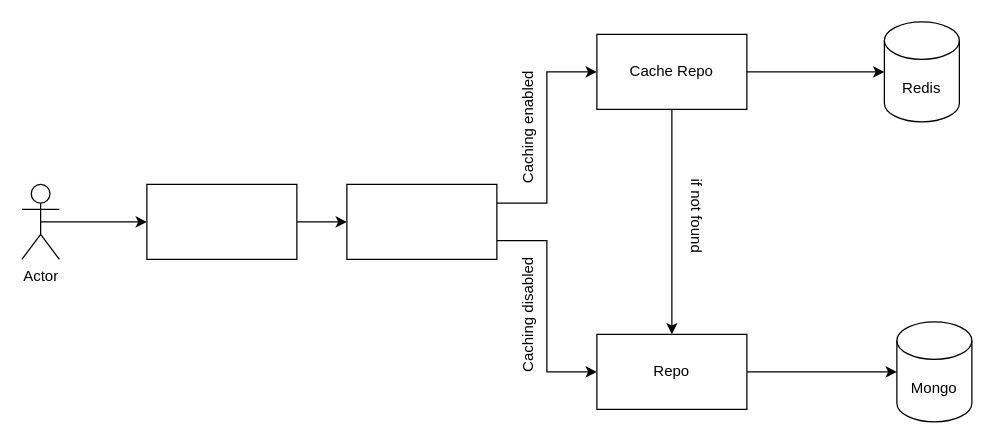
This 994x444 diagram has some shape labels left out. Each missing label, with the centre of its shape:
Router: [221,221]
Service: [421,221]
